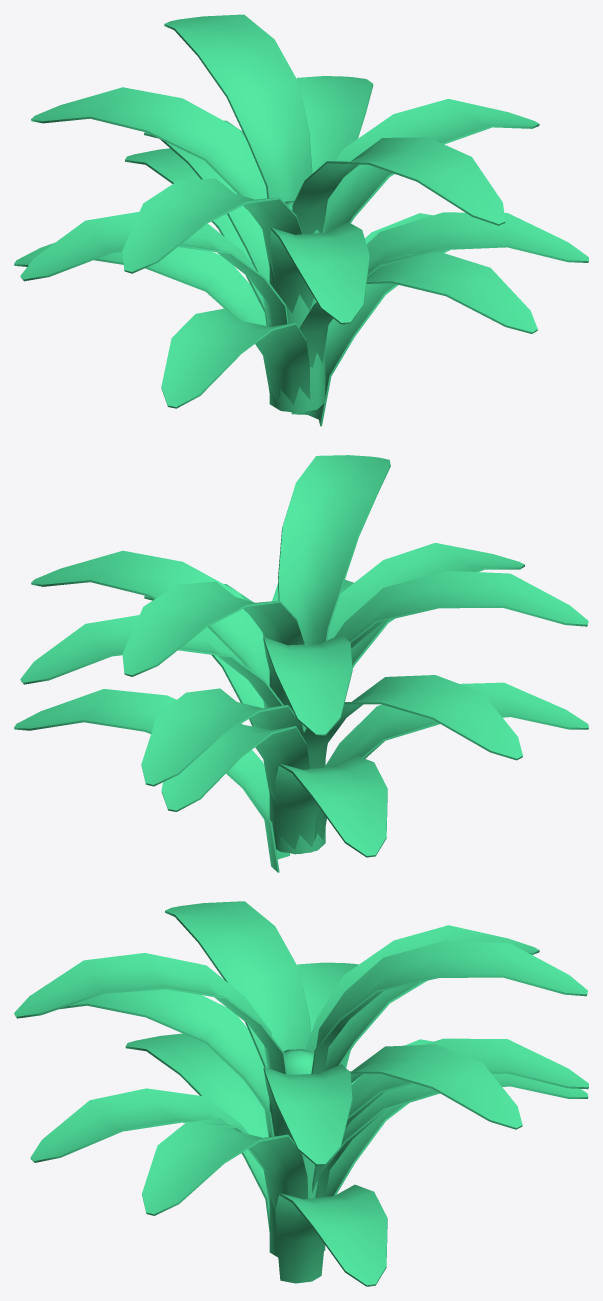
File: flower.glb
The picture shows the model from 3 angles, top to bottom: view 1: azimuth 30°, elevation 25°; view 2: azimuth 150°, elevation 25°; view 3: azimuth 270°, elevation 25°; orthographic projection.
Visible parts, largest first — view 1: flowers_main; view 2: flowers_main; view 3: flowers_main.
Part boxes in pixels (x1,y1,x2,y2): flowers_main: (14,14,588,426); flowers_main: (14,455,588,872); flowers_main: (14,901,588,1286).
Size of the model in its own units: 1.39 by 0.8514 by 1.38.
